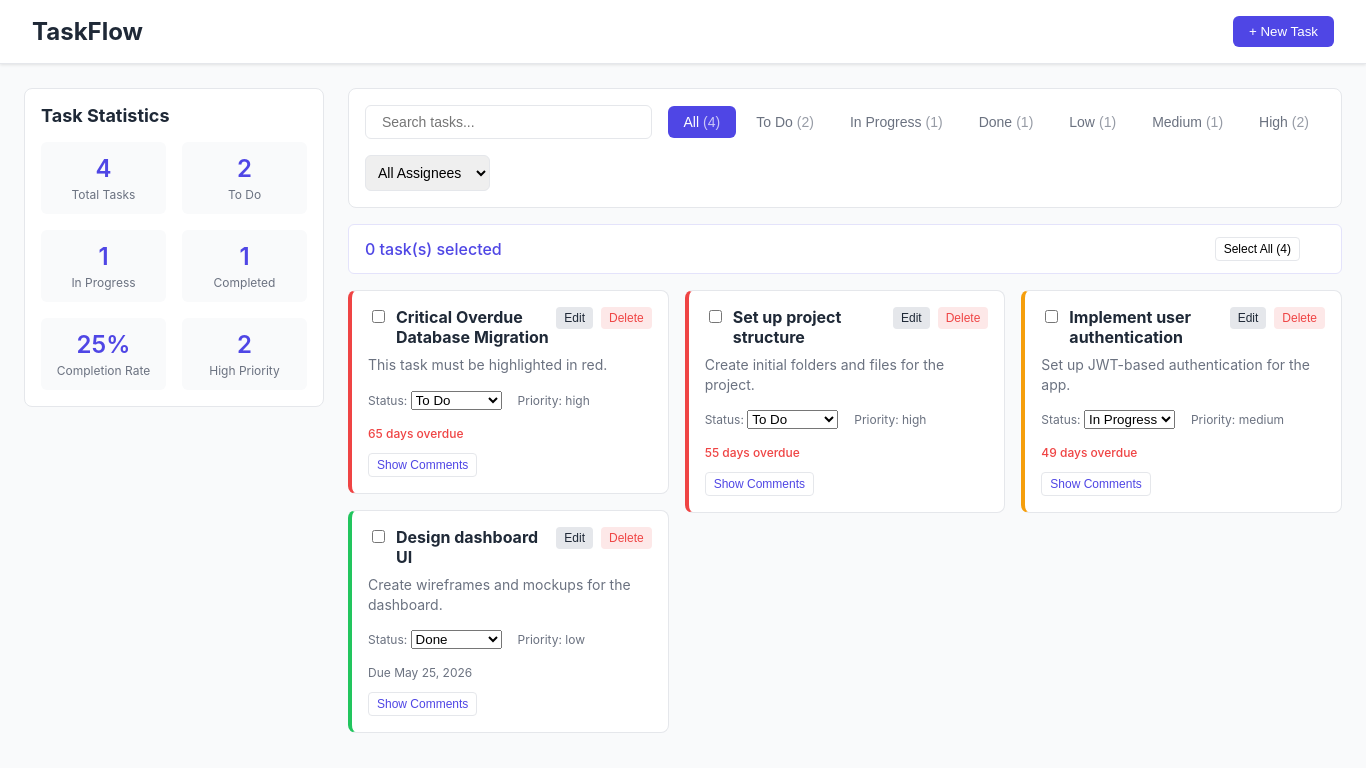
Test: TaskFlow Application › Task Filtering › should filter tasks by status
This screenshot has width=1366, height=768.
Click the radio button with test id "filter-todo" at (785, 122), box [740,106,830,138]
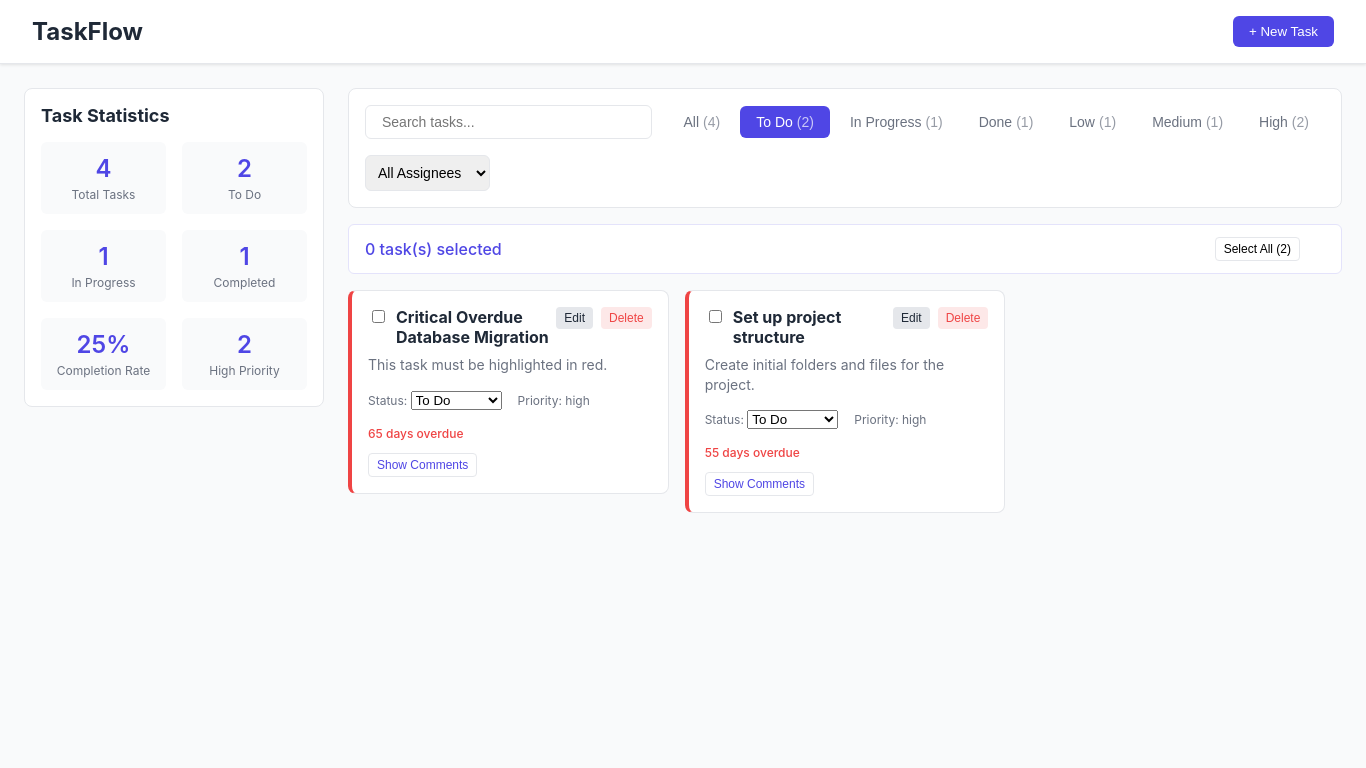
Expected: the number of elements with test id "task-card" is 2, [348,290,669,494]; [685,290,1005,513]
